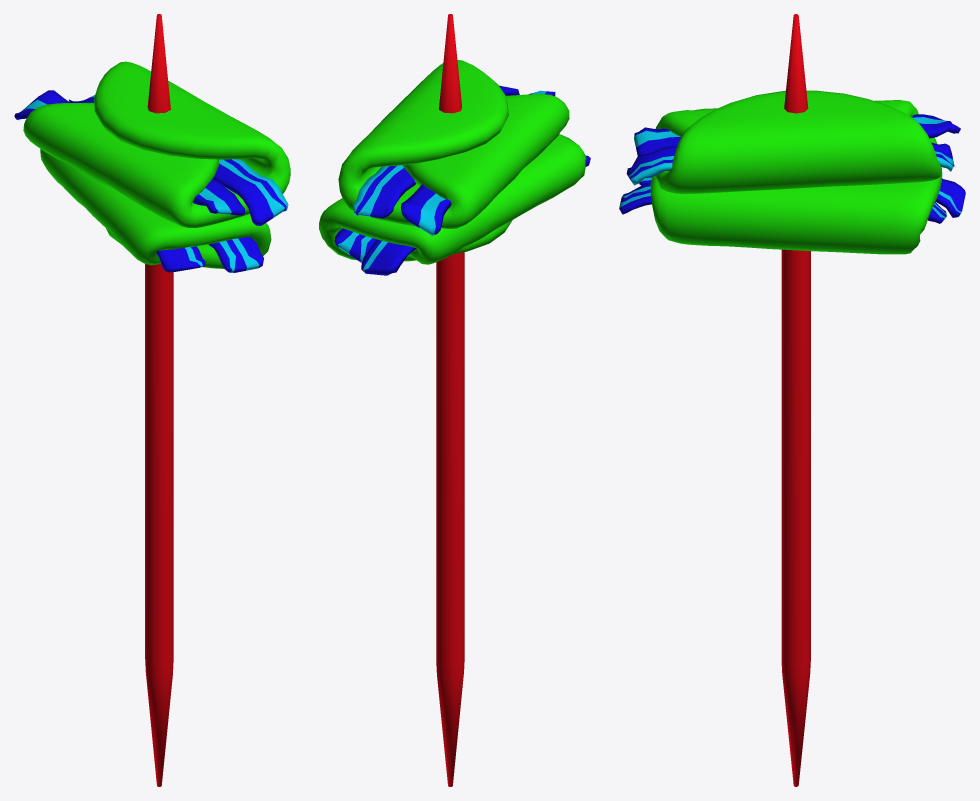
The model's file is slegghammer.fbx.
3 views of the same model, side by side, from view 1: azimuth 30°, elevation 25°; view 2: azimuth 150°, elevation 25°; view 3: azimuth 270°, elevation 25° (orthographic).
Visible parts, largest first — view 1: Toothpick; view 2: Toothpick; view 3: Toothpick.
Part boxes in pixels (bbox=[...]): Toothpick: bbox=[14, 14, 290, 786]; Toothpick: bbox=[319, 14, 590, 786]; Toothpick: bbox=[619, 14, 965, 786].
Size of the model in its own units: 119 by 578 by 236.
